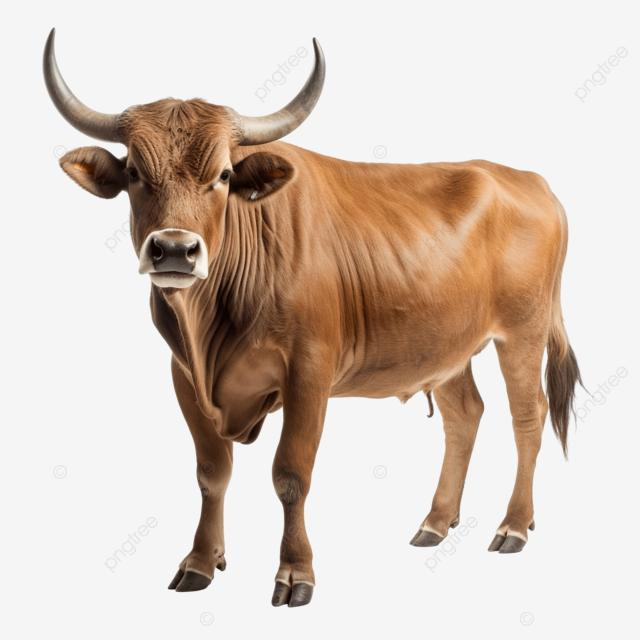Ox: (38, 28, 572, 586)
